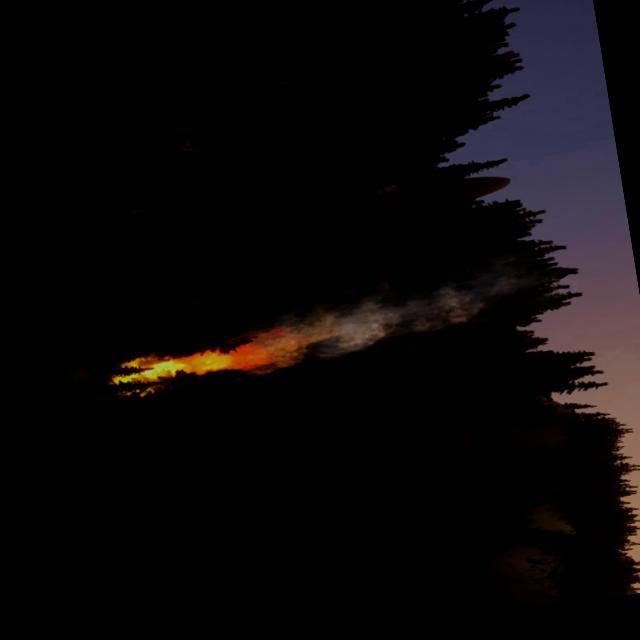fire: (112, 325, 304, 402)
smoke: (261, 244, 569, 378)
